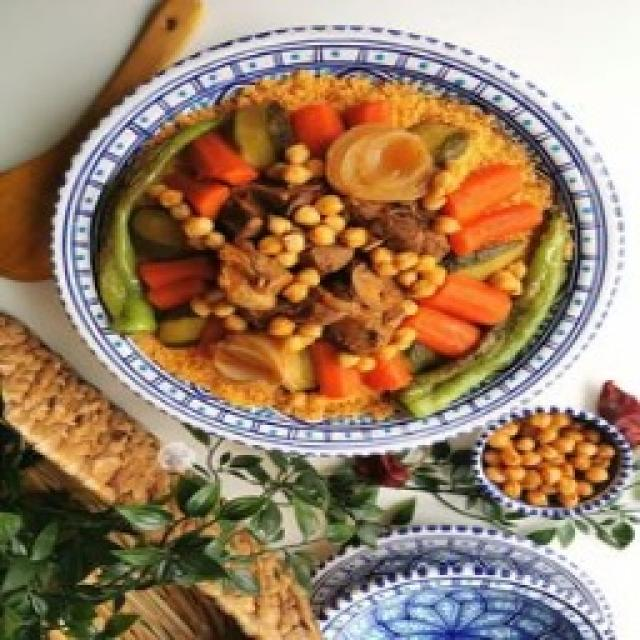Couscous: (100, 72, 570, 421)
